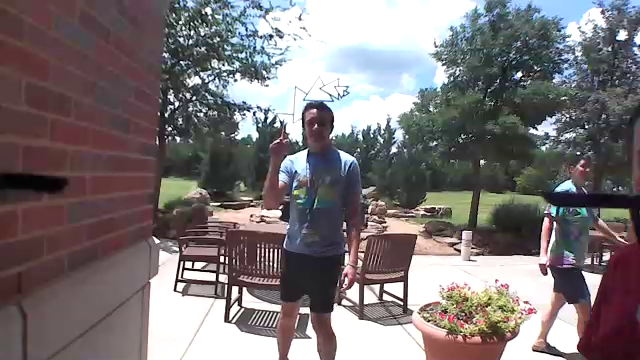up: (265, 120, 293, 163)
